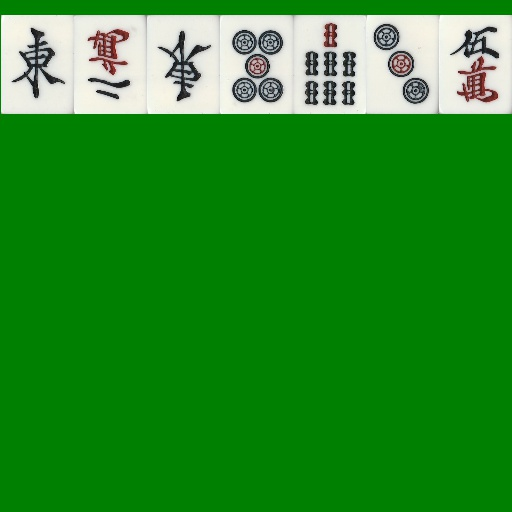2m: (74, 15, 147, 114)
3p: (366, 15, 439, 114)
5m: (439, 15, 512, 114)
5p: (220, 15, 293, 114)
7s: (293, 15, 366, 114)
east: (1, 15, 74, 114), (147, 15, 220, 114)
